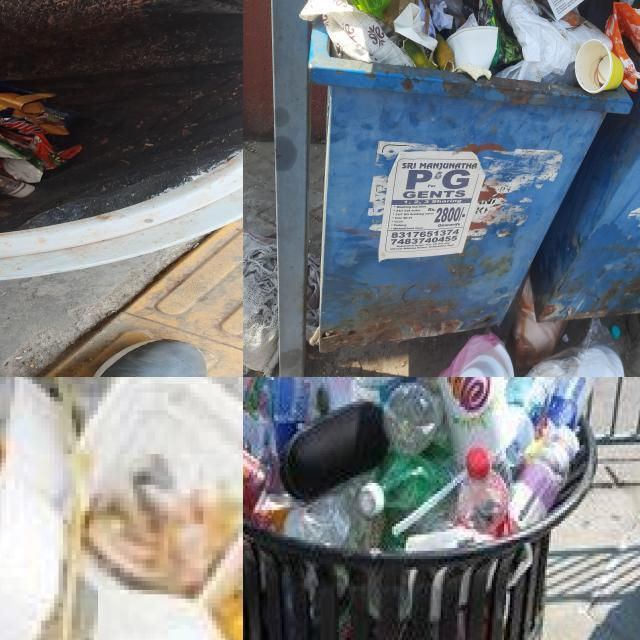Disposable: (82, 377, 243, 595), (0, 377, 71, 640), (525, 318, 625, 377), (513, 277, 567, 369), (439, 333, 514, 377)
Garbage: (0, 377, 243, 640), (243, 377, 597, 554), (311, 0, 640, 96), (429, 278, 635, 377)
Plastic: (611, 325, 621, 338)
Plastic_Bag: (500, 0, 612, 84)
Plastic_bottle: (357, 430, 453, 518), (454, 444, 513, 538), (505, 377, 555, 468), (384, 383, 440, 455), (284, 495, 351, 546), (272, 377, 312, 452), (547, 377, 596, 429), (243, 377, 273, 416)
Plastic_wraper: (0, 117, 81, 170), (477, 0, 523, 68), (4, 158, 42, 183), (4, 94, 9, 97)
can: (509, 460, 564, 528)
